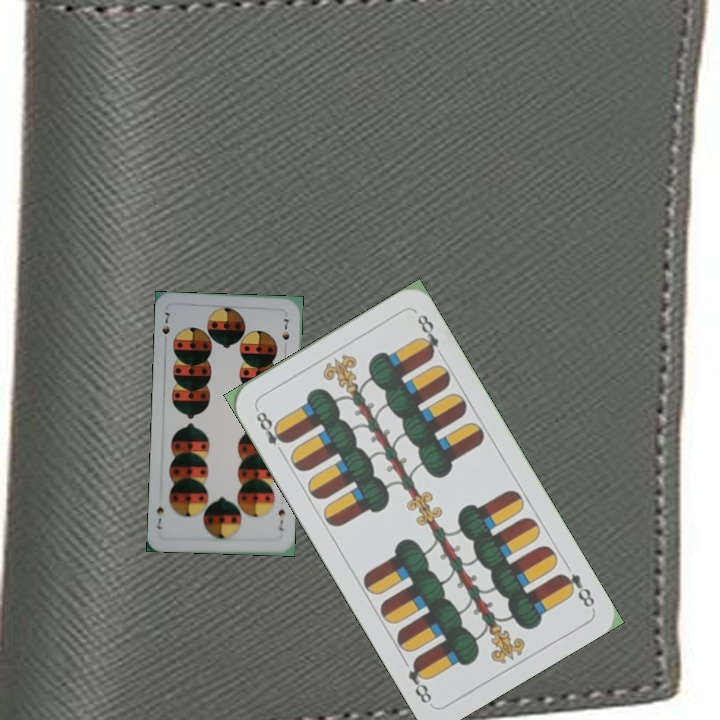E8: (251, 404, 291, 458), (555, 569, 598, 610)
S7: (158, 308, 173, 347), (274, 505, 287, 533)
